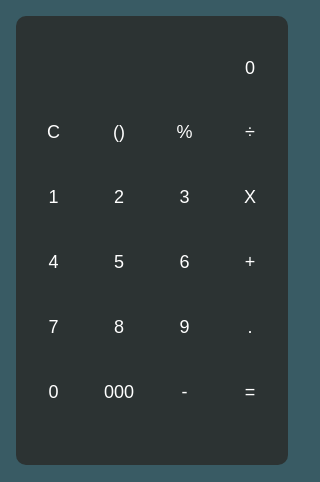
Test: test calculator functioanlity › should change input value on button number click
Click the button "1".
click(54, 197)  # box [21,164,86,230]
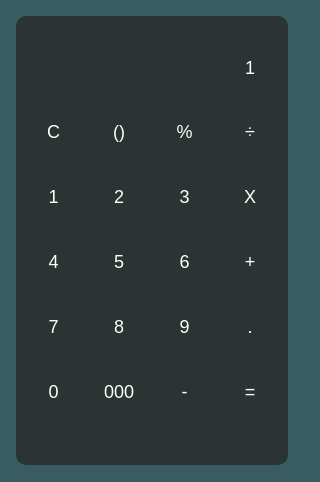
Expected: the field holds "1", [21,56,283,80]
